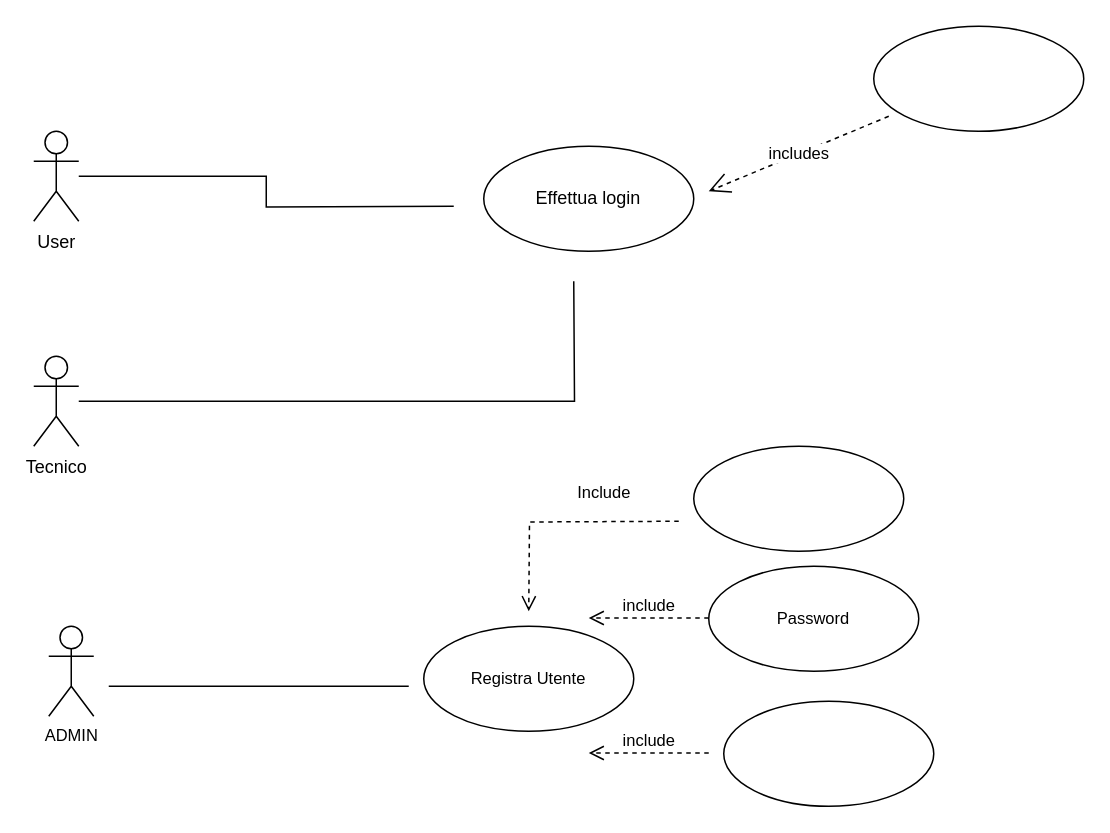
This 1110x833 diagram has some shape labels left out. Each missing label, with the centre of its shape:
"Role" goes at (x=828, y=753).
"Role Decider" goes at (x=978, y=78).
"Username" goes at (x=798, y=498).
